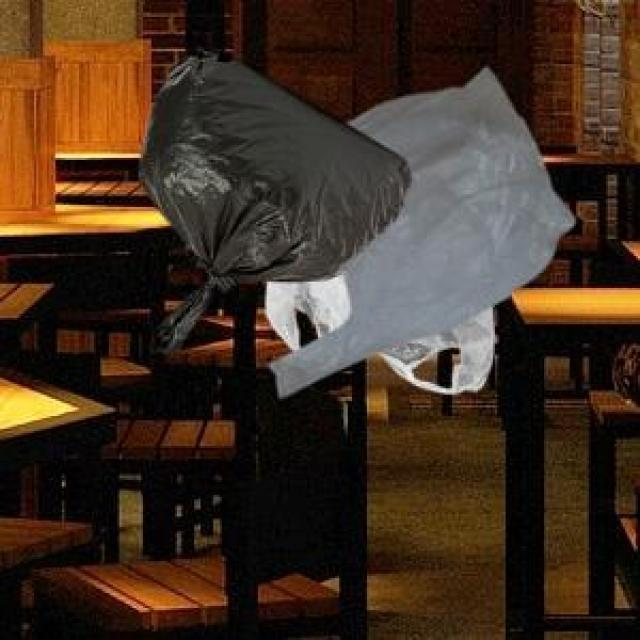miscellaneous trash: (134, 45, 408, 350)
